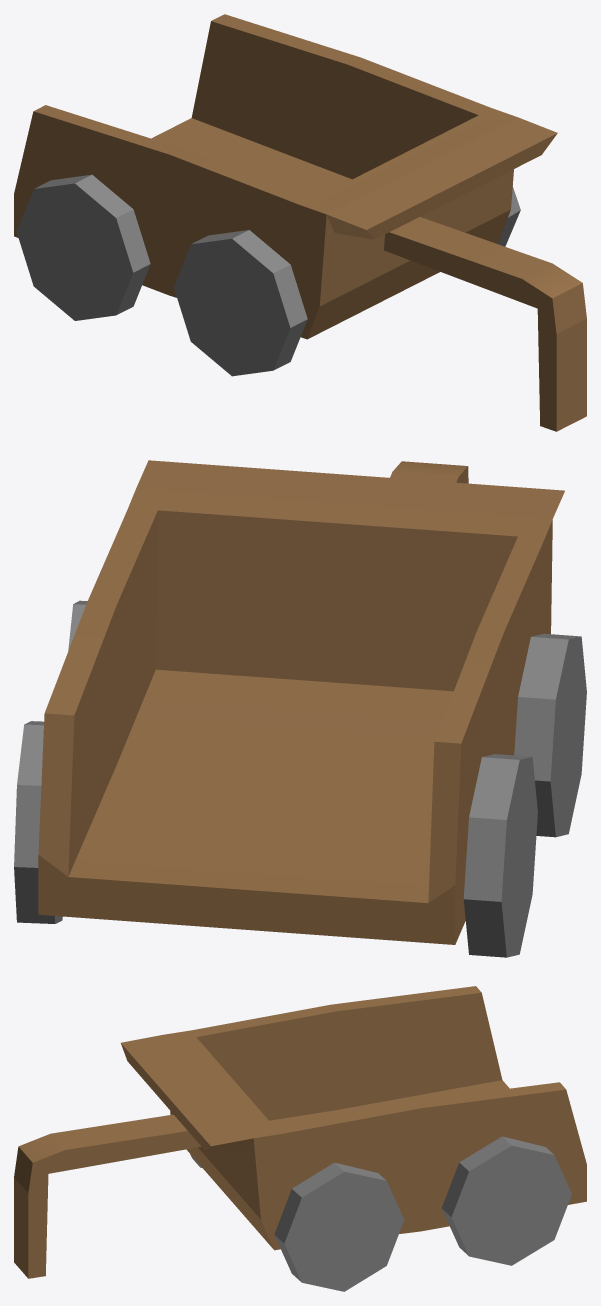
Rendered from wagon.fbx.
3 renders of one model, top to bottom at view 1: azimuth 30°, elevation 25°; view 2: azimuth 150°, elevation 25°; view 3: azimuth 270°, elevation 25°, orthographic. The views are drawn at different scales.
Parts seen in each view (by area): view 1: pCube28, pCube29, pCylinder4, pCylinder2; view 2: pCube28, pCylinder4, pCylinder2, pCylinder3, pCube29; view 3: pCube28, pCylinder3, pCylinder1, pCube29.
Boxes of the visible parts, x1=… form: pCube28: x1=14, y1=14, x2=557, y2=339; pCube29: x1=384, y1=217, x2=586, y2=431; pCylinder4: x1=16, y1=174, x2=150, y2=320; pCylinder2: x1=174, y1=230, x2=307, y2=376; pCube28: x1=38, y1=460, x2=564, y2=944; pCylinder4: x1=463, y1=754, x2=537, y2=957; pCylinder2: x1=514, y1=633, x2=586, y2=837; pCylinder3: x1=14, y1=721, x2=62, y2=923; pCube29: x1=390, y1=461, x2=468, y2=483; pCube28: x1=121, y1=986, x2=586, y2=1250; pCylinder3: x1=441, y1=1136, x2=571, y2=1265; pCylinder1: x1=274, y1=1162, x2=404, y2=1291; pCube29: x1=14, y1=1114, x2=200, y2=1278.
Size of the model in its own units: 5.01 by 2.33 by 7.11.
